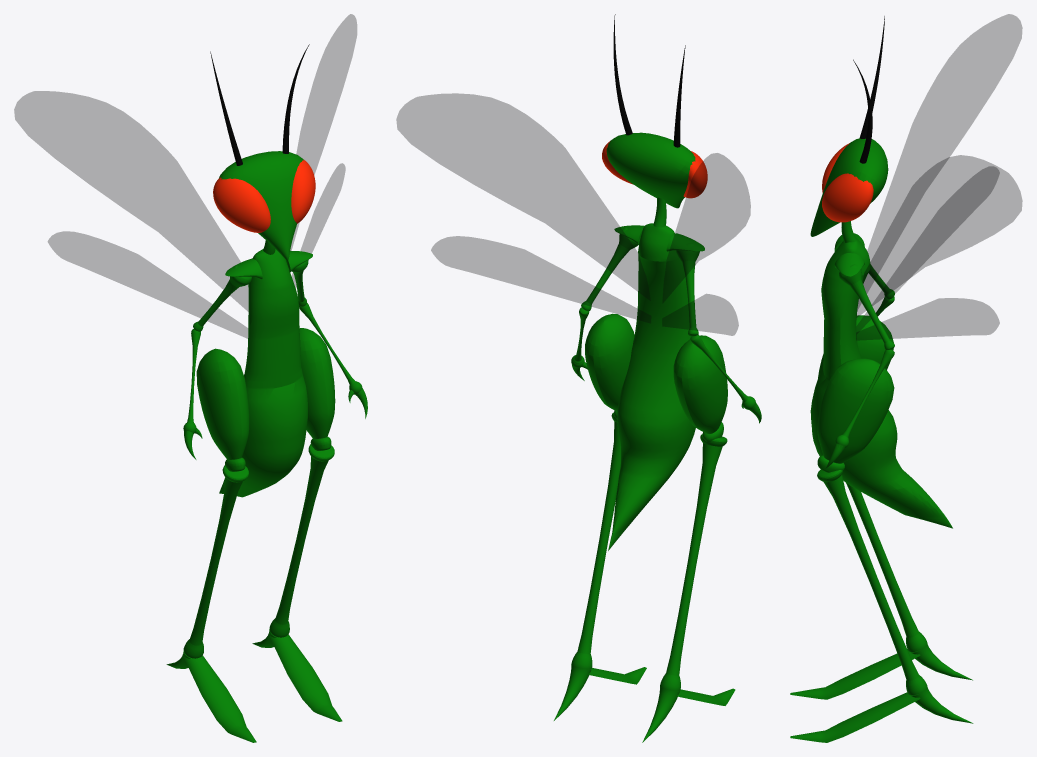
The model's file is Pokemon.obj.
The picture shows the model from 3 angles, left to right: view 1: azimuth 30°, elevation 25°; view 2: azimuth 150°, elevation 25°; view 3: azimuth 270°, elevation 25°; orthographic projection. The views are drawn at different scales.
Parts seen in each view (by area): view 1: Wing01, Legs, Body, Wing, Head, Head_2, Arms, Head_1; view 2: Wing, Body, Legs, Wing01, Head, Arms, Head_2, Head_1; view 3: Legs, Wing, Wing01, Body, Head, Head_2, Arms, Head_1.
Part boxes in pixels (box(x1,y1,x2,y2)): Wing01: box(14, 91, 248, 338); Legs: box(166, 328, 342, 742); Body: box(219, 240, 312, 497); Wing: box(290, 14, 356, 287); Head: box(219, 151, 303, 260); Head_2: box(213, 160, 315, 232); Arms: box(183, 251, 367, 459); Head_1: box(210, 44, 309, 165); Wing: box(396, 93, 651, 323); Body: box(608, 197, 704, 550); Legs: box(554, 313, 735, 742); Wing01: box(662, 153, 750, 335); Head: box(606, 132, 695, 208); Arms: box(571, 227, 761, 423); Head_2: box(602, 141, 707, 198); Head_1: box(613, 14, 685, 147); Legs: box(790, 315, 973, 742); Wing: box(856, 155, 1022, 340); Wing01: box(856, 14, 1022, 333); Body: box(810, 221, 952, 528); Head: box(810, 138, 888, 236); Head_2: box(822, 143, 873, 222); Arms: box(825, 234, 894, 468); Head_1: box(853, 16, 884, 163).
Size of the model in its own units: 1201 by 2200 by 681.
